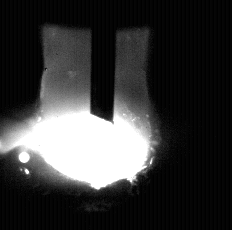arame: (92, 0, 115, 124)
poca: (30, 0, 151, 230)
